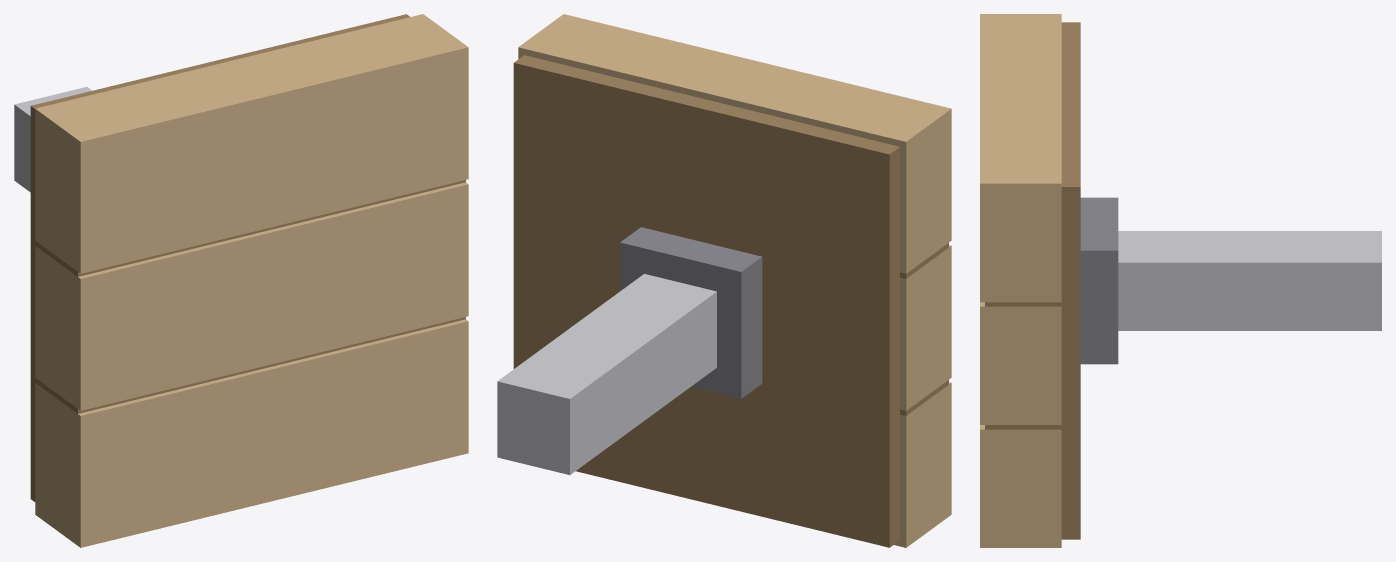
File: piston_long_head.gltf
3 renders of one model, left to right at view 1: azimuth 30°, elevation 25°; view 2: azimuth 150°, elevation 25°; view 3: azimuth 270°, elevation 25°, orthographic. The views are drawn at different scales.
Parts seen in each view (by area): view 1: piston_long_head; view 2: piston_long_head; view 3: piston_long_head.
Boxes of the visible parts, <box> form: piston_long_head: <box>14,14,468,547</box>; piston_long_head: <box>497,14,951,547</box>; piston_long_head: <box>980,14,1381,547</box>.
Size of the model in its own units: 1 by 1 by 1.
